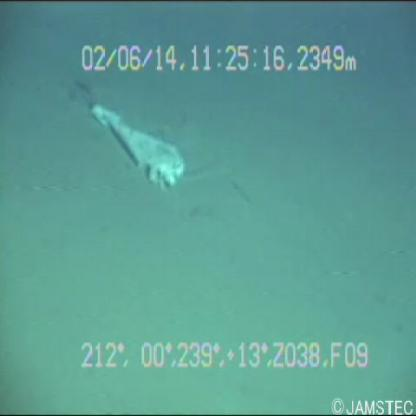Rác: (72, 80, 191, 194)
